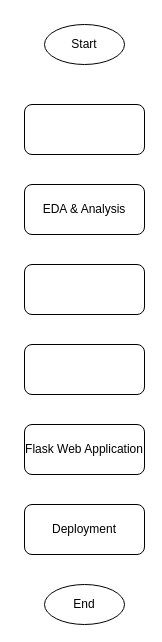
The diagram is 162 pixels wide and 642 high, and some of its shapes have lost their labels. The centre of each missing label's shape, as x and y in pixels:
"Collect Dataset" goes at [84,129].
"Data Preprocessing" goes at [84,289].
"Model Building & Selection" goes at [84,369].
